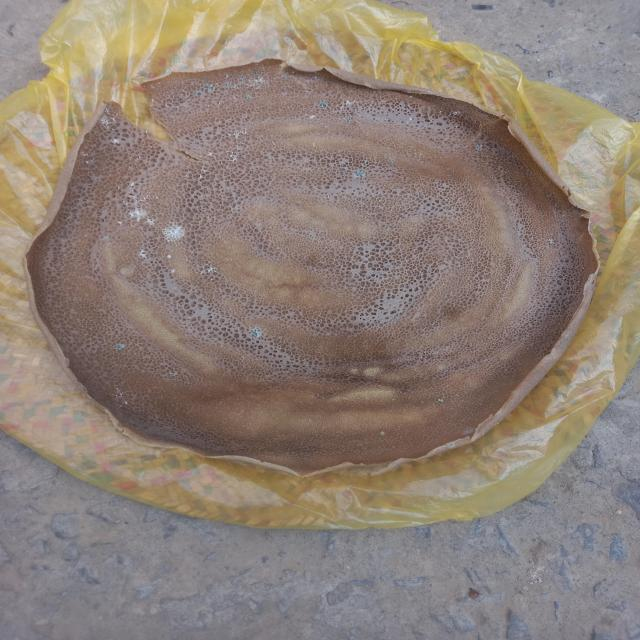injera_mold: (115, 182, 162, 208), (116, 209, 158, 227), (107, 384, 130, 411), (206, 147, 242, 164), (162, 221, 188, 243), (95, 107, 121, 129), (439, 107, 463, 128), (193, 262, 220, 280), (78, 147, 99, 165), (226, 126, 250, 139), (248, 78, 270, 90), (250, 326, 263, 339), (112, 342, 128, 352), (340, 100, 358, 108), (224, 81, 240, 89), (137, 249, 149, 259), (108, 136, 122, 144), (197, 169, 208, 179), (317, 101, 329, 109), (203, 84, 214, 92), (304, 113, 317, 119), (475, 144, 484, 152), (355, 172, 364, 178), (193, 90, 202, 96), (360, 161, 368, 167), (380, 430, 386, 437), (172, 106, 178, 113), (169, 269, 177, 274), (435, 398, 444, 402), (170, 372, 178, 376), (243, 95, 251, 99), (548, 238, 553, 244), (388, 158, 394, 163), (252, 72, 259, 76), (284, 76, 291, 80), (344, 119, 352, 122), (323, 124, 329, 128), (166, 255, 172, 259), (239, 76, 245, 80)
